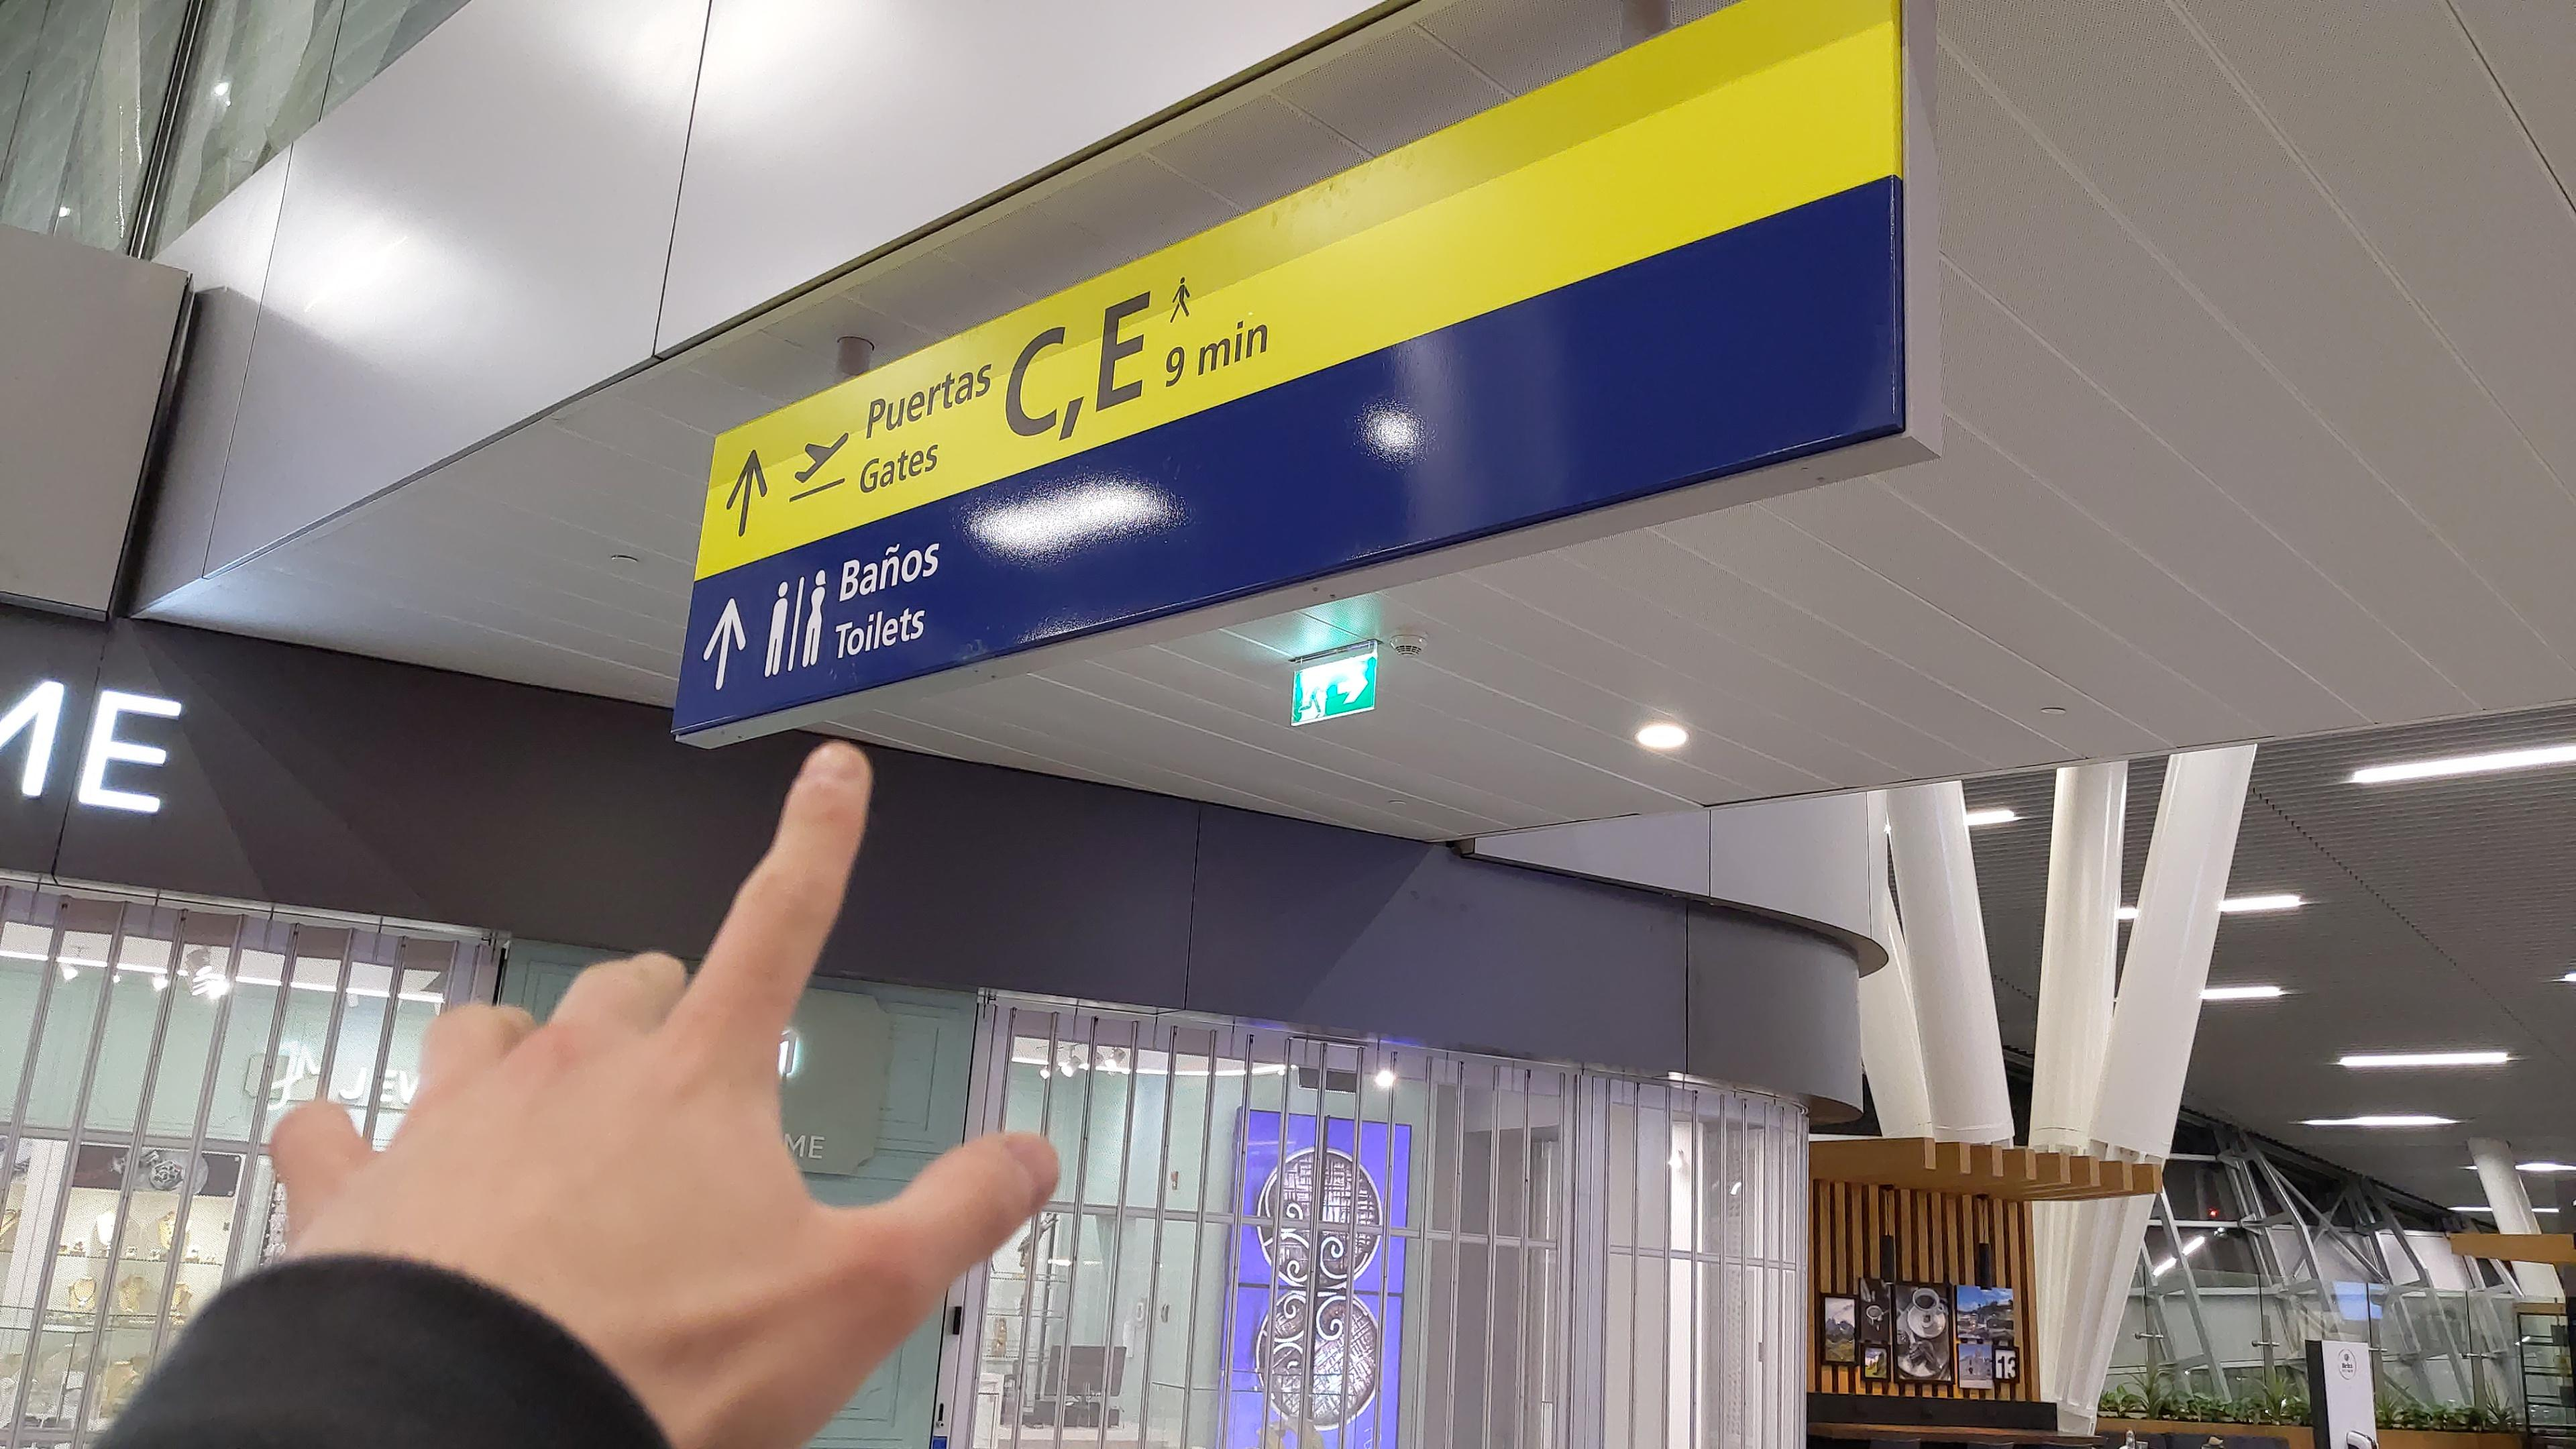airplane symbol: (792, 427, 852, 486)
bathrooms: (763, 568, 828, 678)
emergency exit: (1297, 682, 1328, 721)
thin right arrow: (1335, 669, 1371, 706)
thin up arrow: (699, 592, 749, 692), (722, 447, 771, 540)
